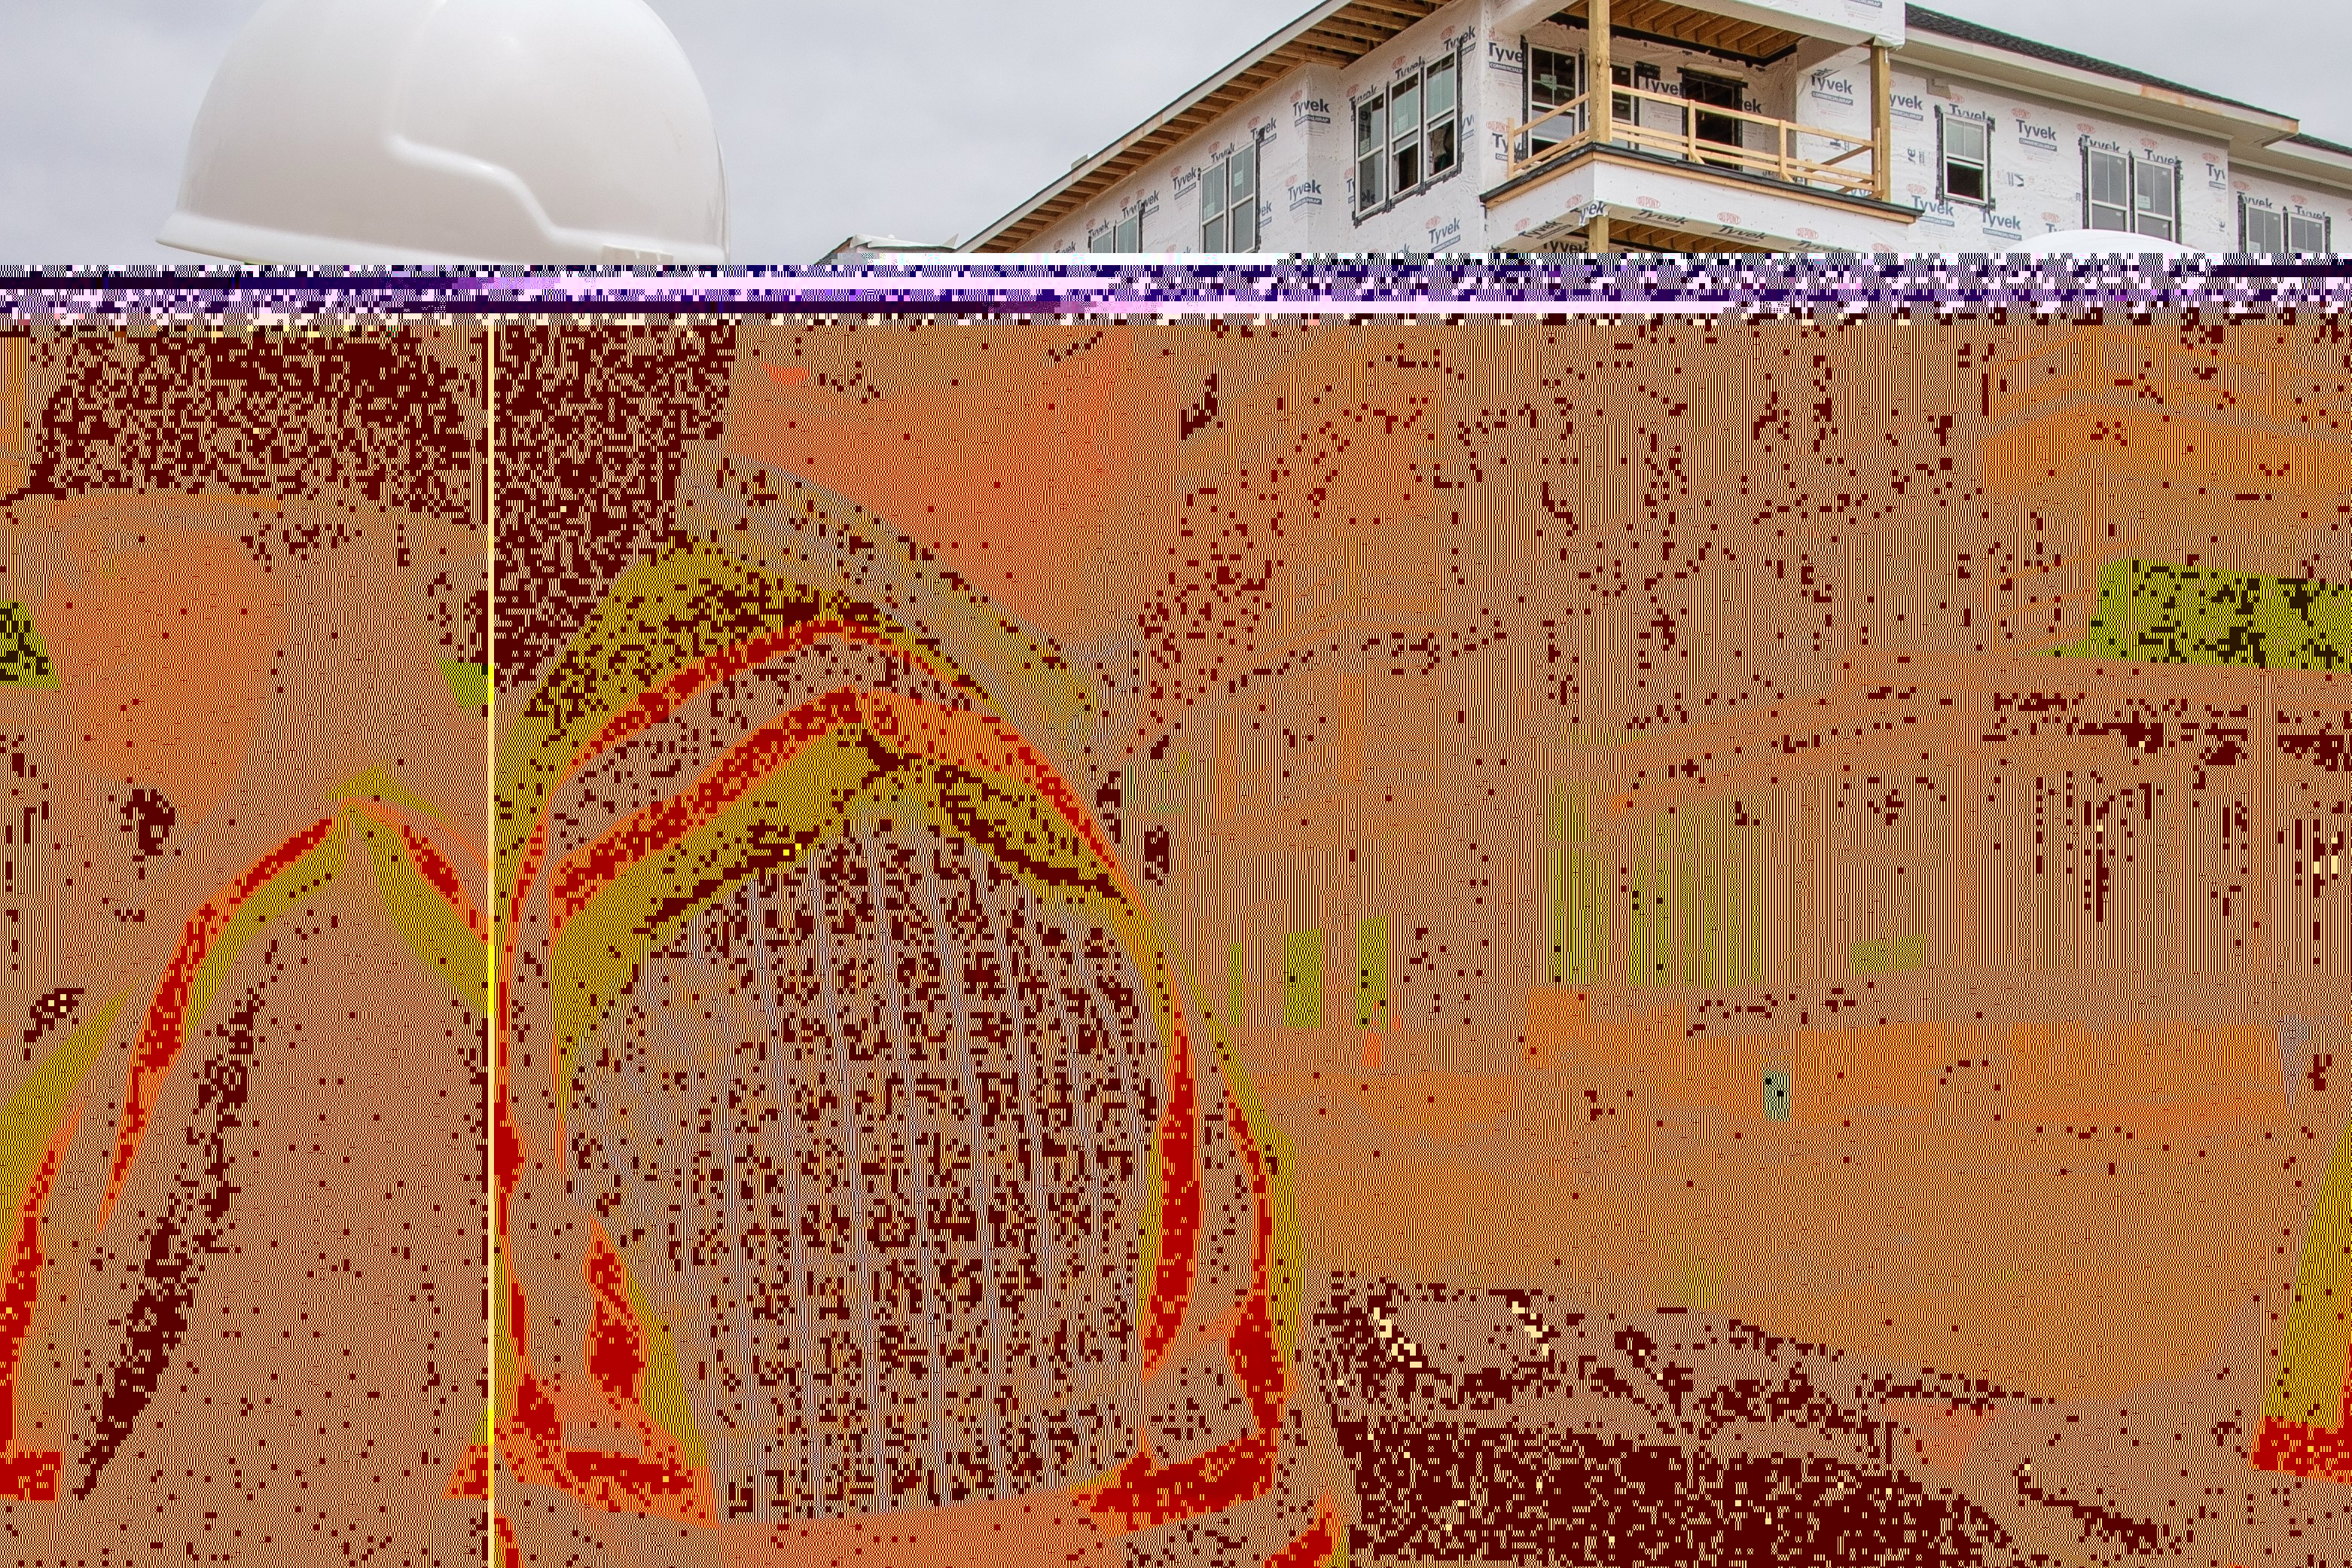nomask: (1898, 503, 2125, 764)
